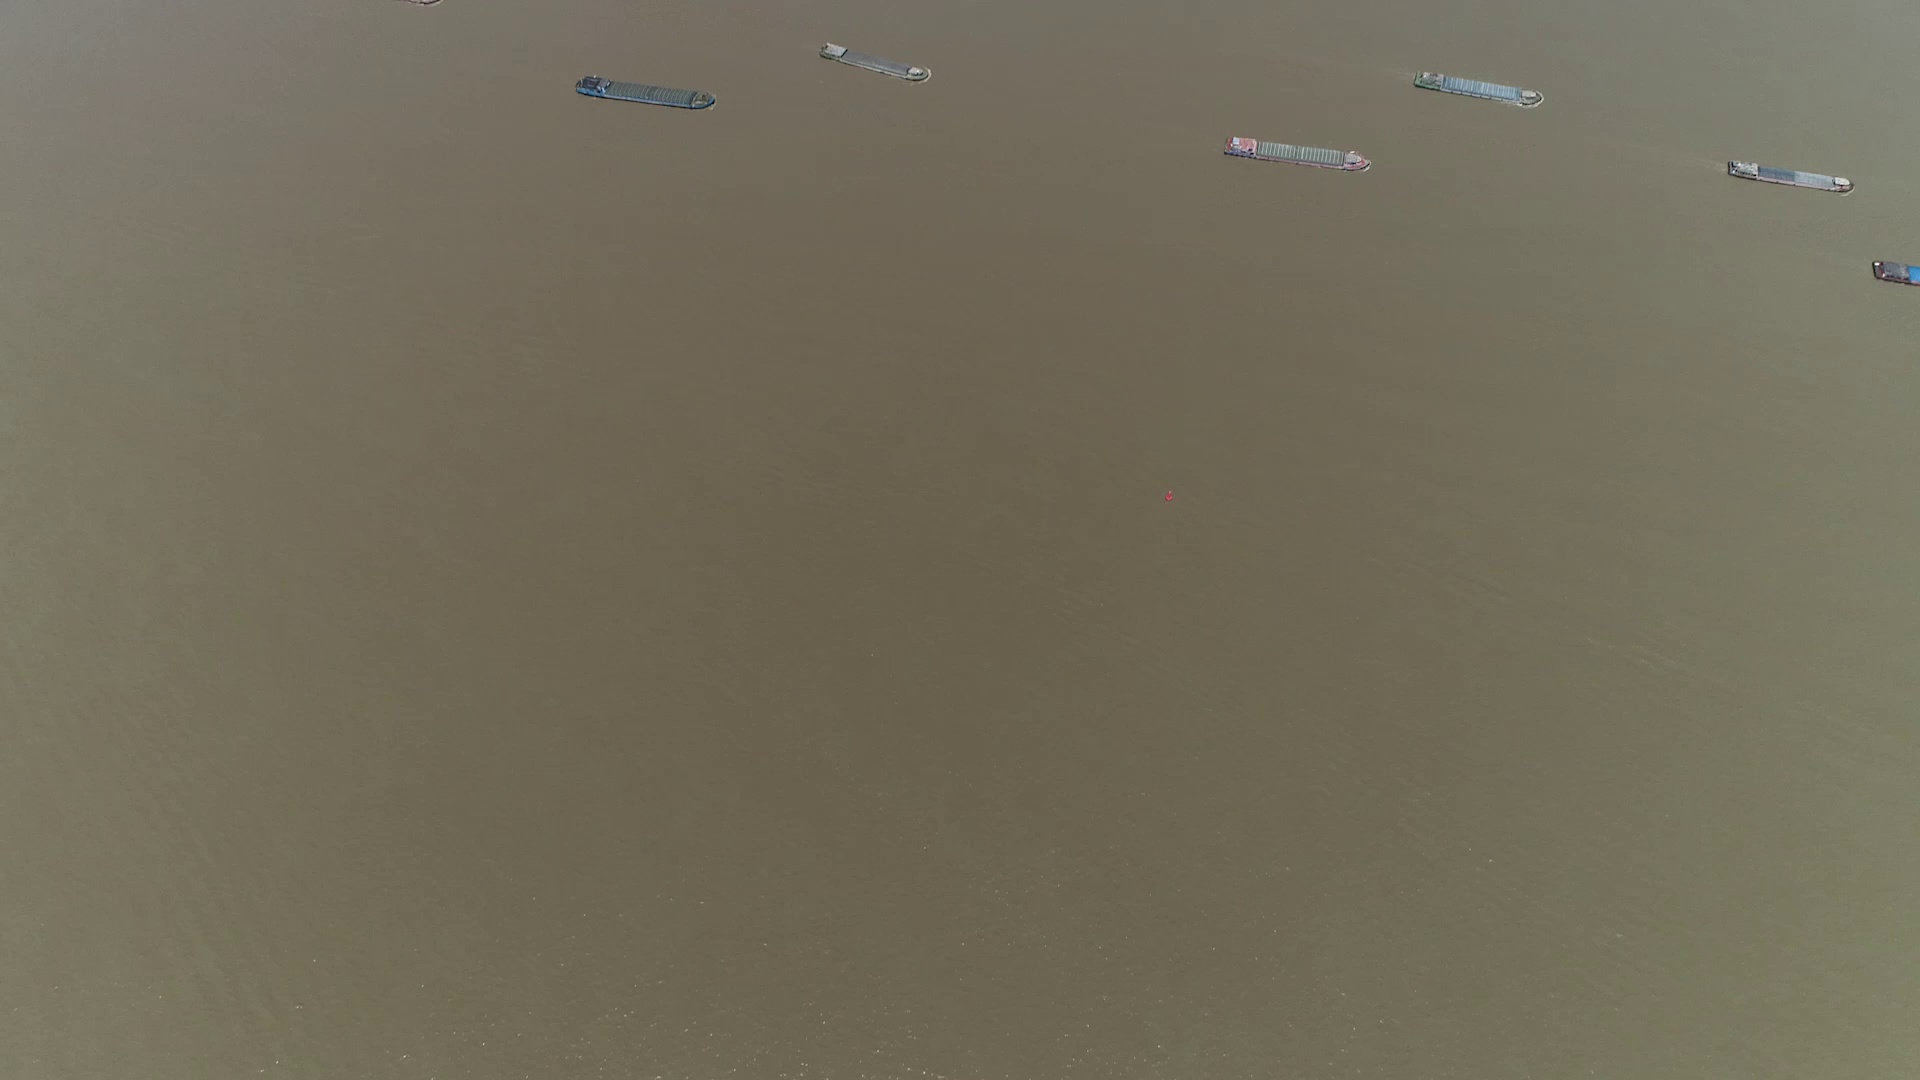ship: (1222, 137, 1371, 171), (1412, 69, 1543, 105), (819, 42, 930, 84), (578, 76, 713, 111), (1726, 160, 1851, 193), (1870, 260, 1917, 289)
